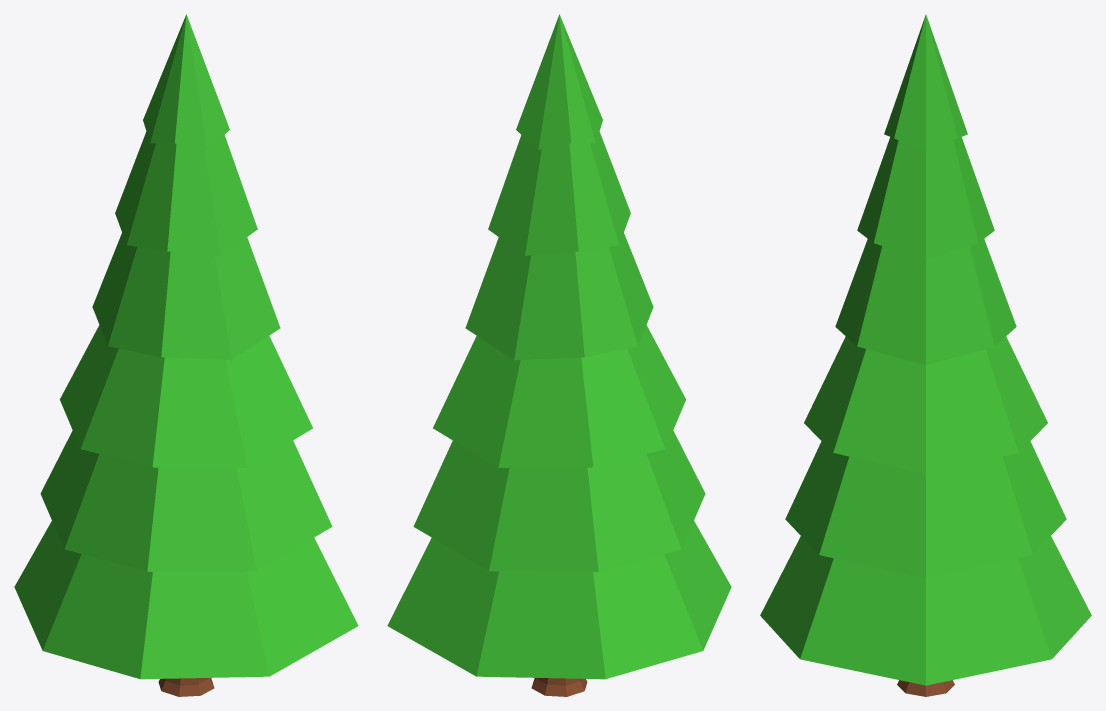
Rendered from tree00.fbx.
3 views of the same model, side by side, from view 1: azimuth 30°, elevation 25°; view 2: azimuth 150°, elevation 25°; view 3: azimuth 270°, elevation 25° (orthographic).
Visible parts, largest first — view 1: Cylinder; view 2: Cylinder; view 3: Cylinder.
Part boxes in pixels (x1,y1,x2,y2): Cylinder: (14,14,358,696); Cylinder: (387,14,731,696); Cylinder: (760,14,1091,696).
Size of the model in its own units: 135 by 302 by 135.
